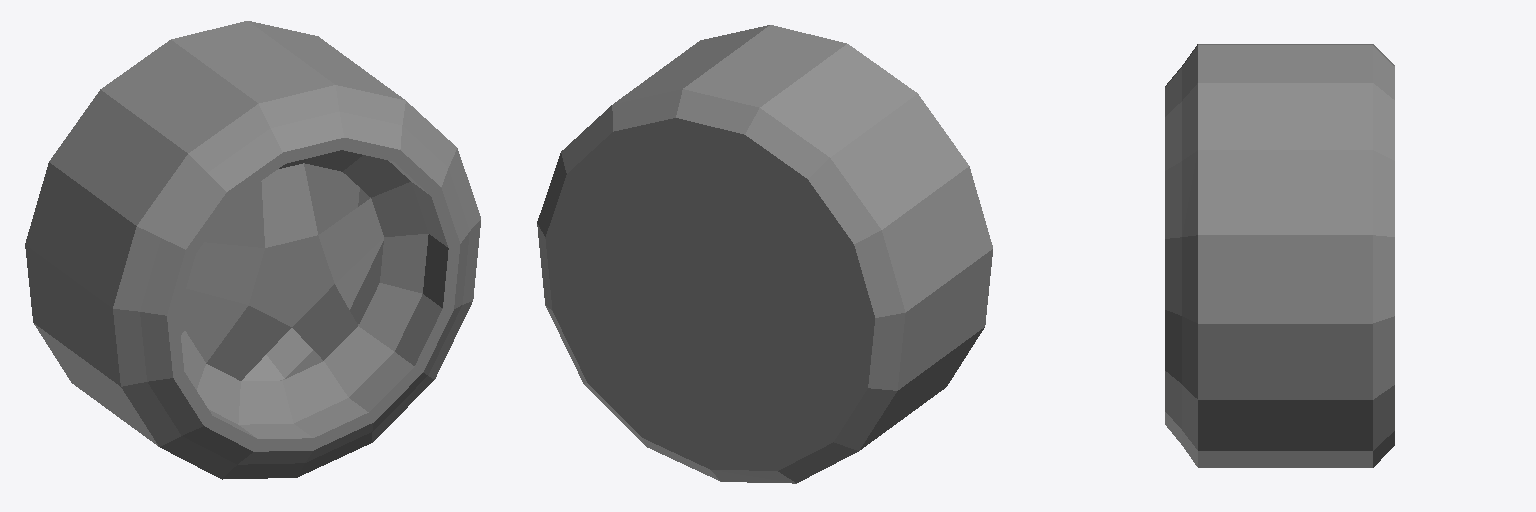
The model's file is Llanta_AE86I.obj.
3 views of the same model, side by side, from view 1: azimuth 30°, elevation 25°; view 2: azimuth 150°, elevation 25°; view 3: azimuth 270°, elevation 25° (orthographic).
Parts seen in each view (by area): view 1: Llanta_AE86; view 2: Llanta_AE86; view 3: Llanta_AE86.
Boxes of the visible parts, box(x1,y1,x2,y2) form: Llanta_AE86: box(25, 21, 480, 479); Llanta_AE86: box(537, 25, 992, 483); Llanta_AE86: box(1165, 44, 1394, 467).
Size of the model in its own units: 0.5415 by 0.5385 by 0.2933.